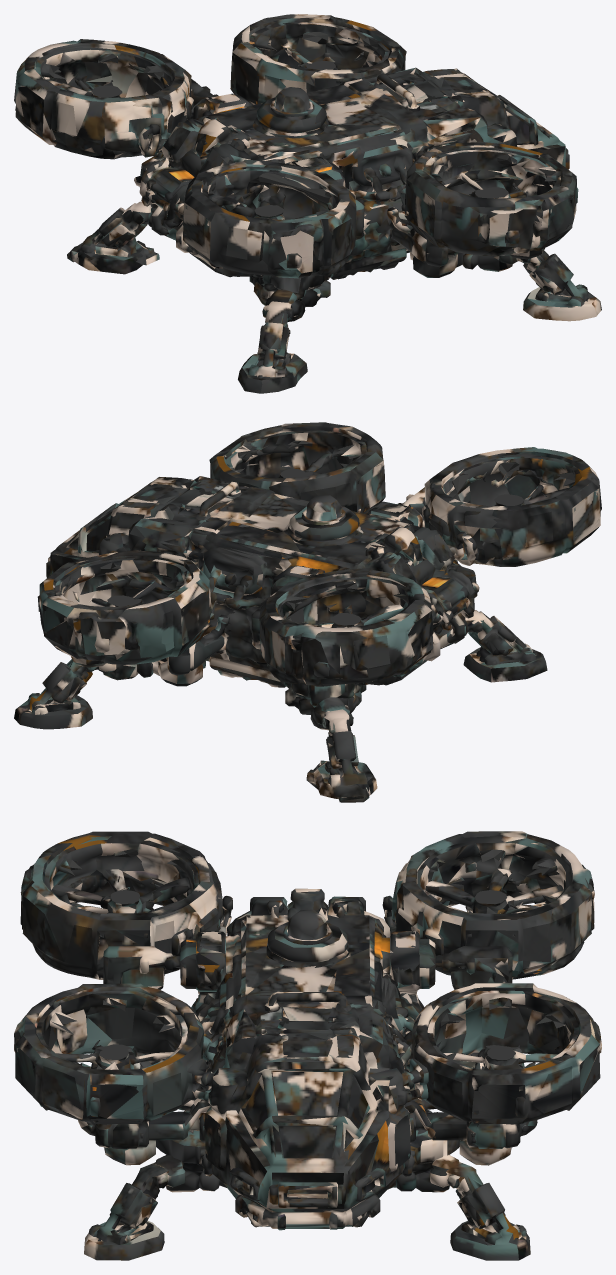
Rendered from SM_Extractor_Body.fbx.
The picture shows the model from 3 angles, top to bottom: view 1: azimuth 30°, elevation 25°; view 2: azimuth 150°, elevation 25°; view 3: azimuth 270°, elevation 25°; orthographic projection. The views are drawn at different scales.
Parts seen in each view (by area): view 1: SM_Extractor_Body; view 2: SM_Extractor_Body; view 3: SM_Extractor_Body.
Boxes of the visible parts, bbox=[...] form: SM_Extractor_Body: bbox=[14, 14, 601, 393]; SM_Extractor_Body: bbox=[14, 422, 601, 802]; SM_Extractor_Body: bbox=[14, 831, 601, 1260].
Size of the model in its own units: 1.97 by 0.861 by 2.01.
